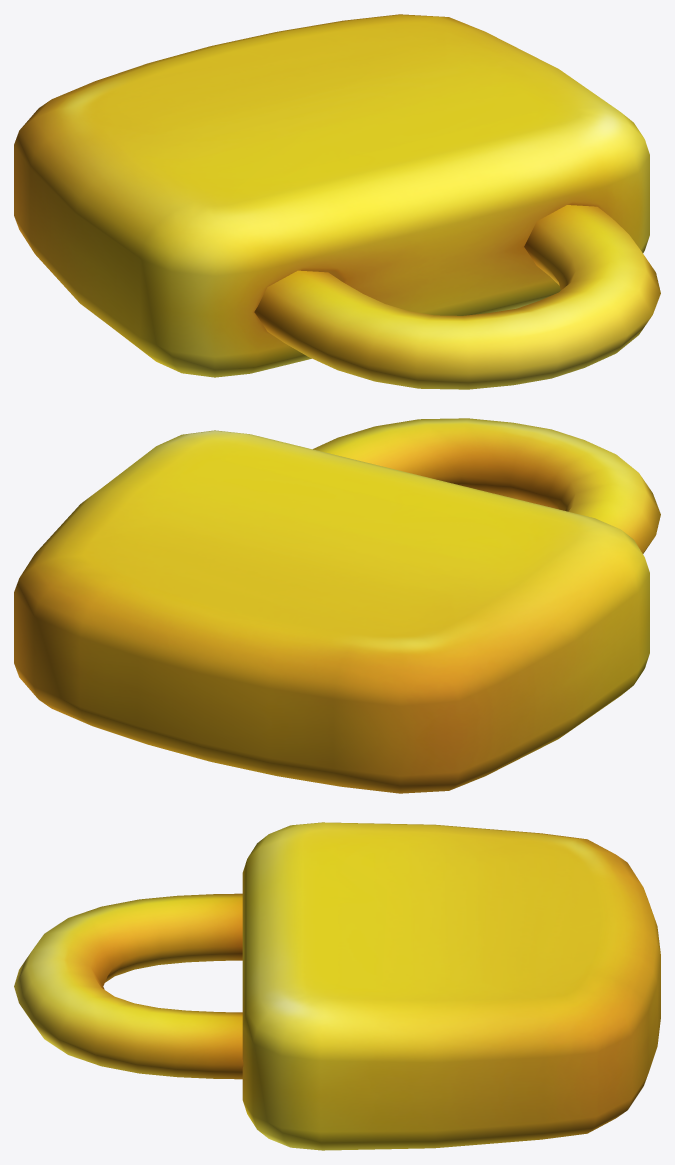
Rendered from padlock.fbx.
3 views of the same model, one above another, from view 1: azimuth 30°, elevation 25°; view 2: azimuth 150°, elevation 25°; view 3: azimuth 270°, elevation 25° (orthographic). The views are drawn at different scales.
Parts seen in each view (by area): view 1: padlock; view 2: padlock; view 3: padlock.
Boxes of the visible parts, x1=… form: padlock: x1=14, y1=14, x2=660, y2=389; padlock: x1=14, y1=418, x2=660, y2=793; padlock: x1=14, y1=822, x2=660, y2=1150.
Size of the model in its own units: 0.6203 by 0.1916 by 0.7688.
